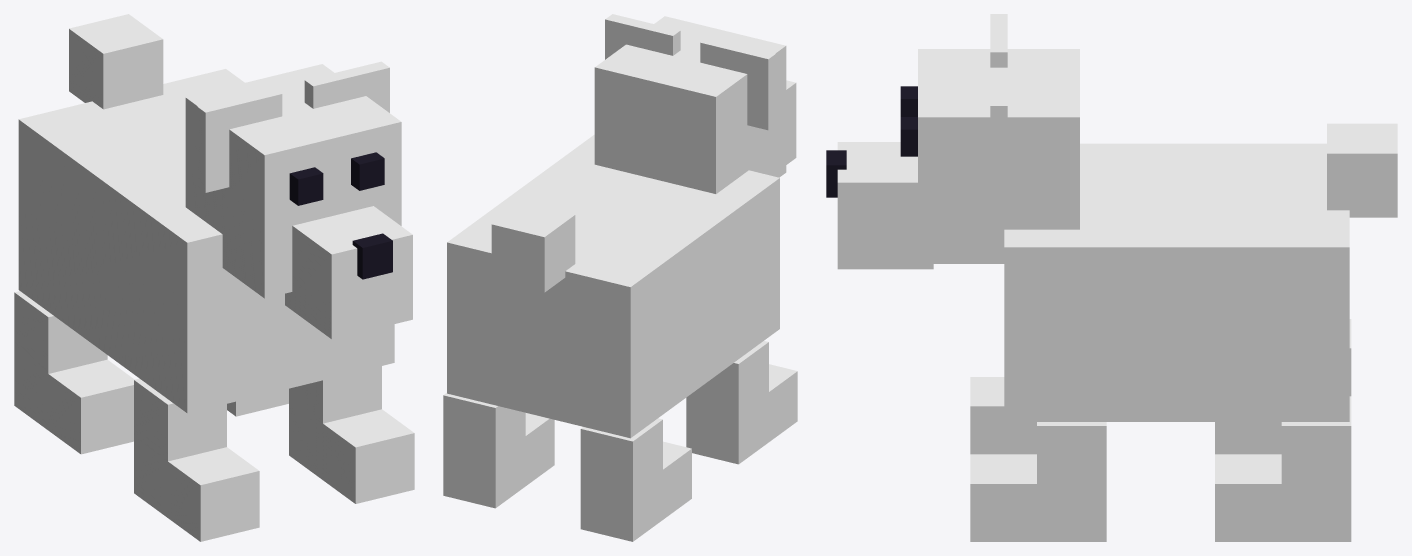
The model's file is animal4.fbx.
3 views of the same model, side by side, from view 1: azimuth 30°, elevation 25°; view 2: azimuth 150°, elevation 25°; view 3: azimuth 270°, elevation 25° (orthographic). The views are drawn at different scales.
Parts seen in each view (by area): view 1: Dog; view 2: Dog; view 3: Dog.
Part boxes in pixels (<box>): Dog: <box>14,14,414,541</box>; Dog: <box>443,14,797,541</box>; Dog: <box>826,14,1397,541</box>.
Bounding box in the file's own units: 1.33 × 2.49 × 3.01.
